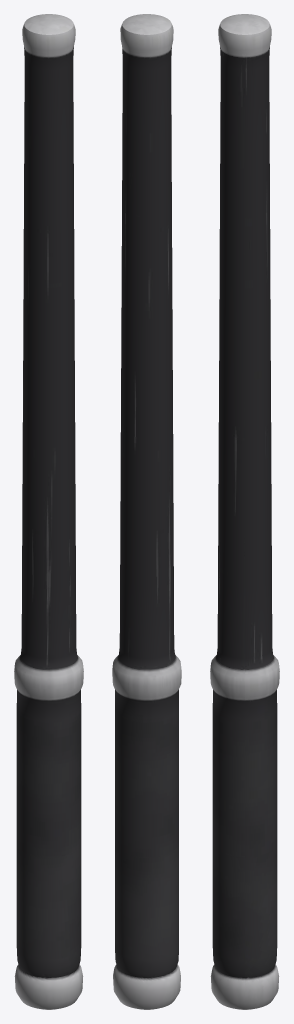
File: baton.glb
The picture shows the model from 3 angles, left to right: view 1: azimuth 90°, elevation 25°; view 2: azimuth 150°, elevation 25°; view 3: azimuth 270°, elevation 25°; orthographic projection.
Visible parts, largest first — view 1: baton; view 2: baton; view 3: baton.
Part boxes in pixels (x1=…): baton: x1=14, y1=14, x2=83, y2=1009; baton: x1=112, y1=14, x2=181, y2=1009; baton: x1=210, y1=14, x2=279, y2=1009.
Size of the model in its own units: 0.0388 by 0.6025 by 0.0388.
1 material, 1 textured.
